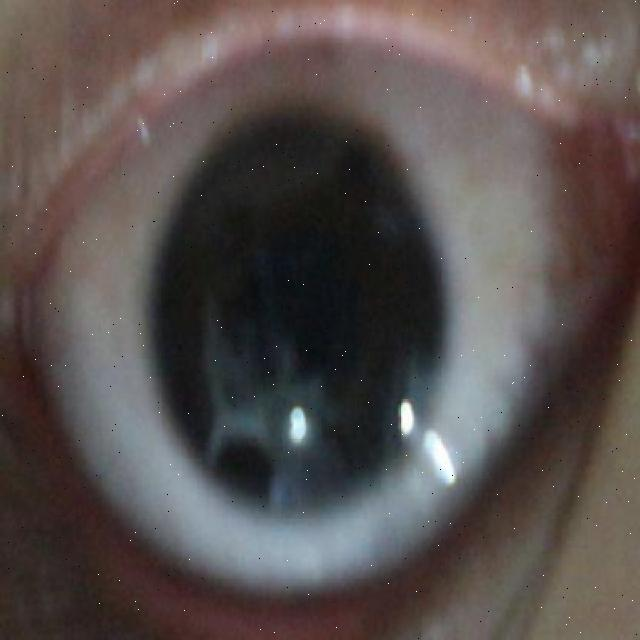Normal: (144, 116, 449, 513)
